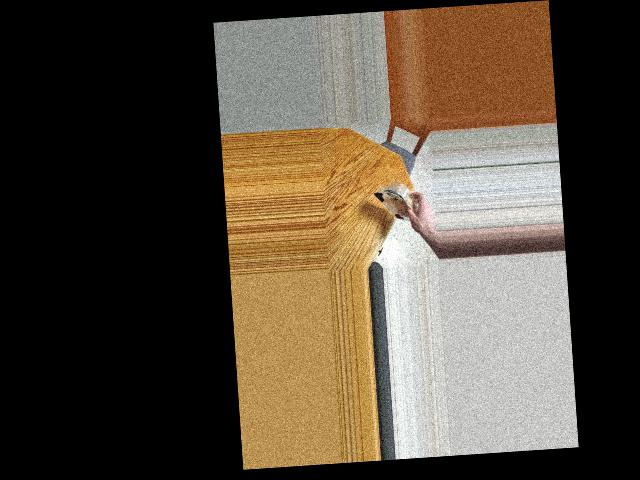cheese: (373, 174, 418, 234)
